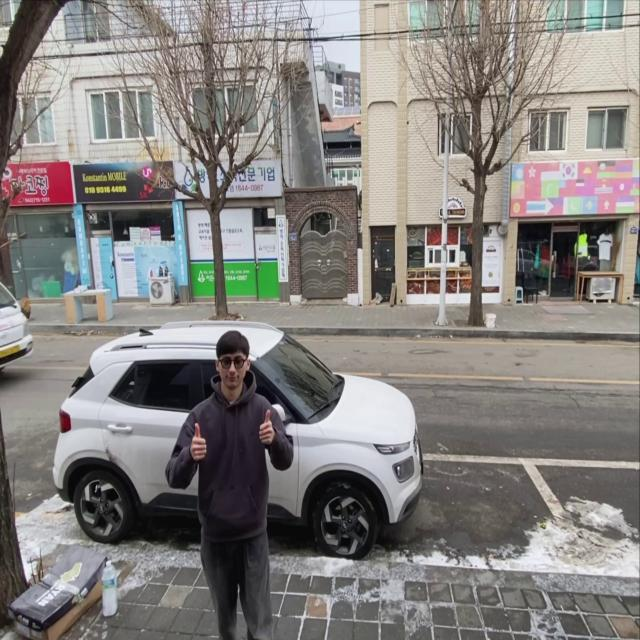bare_hand: (258, 409, 276, 448), (189, 421, 205, 462)
